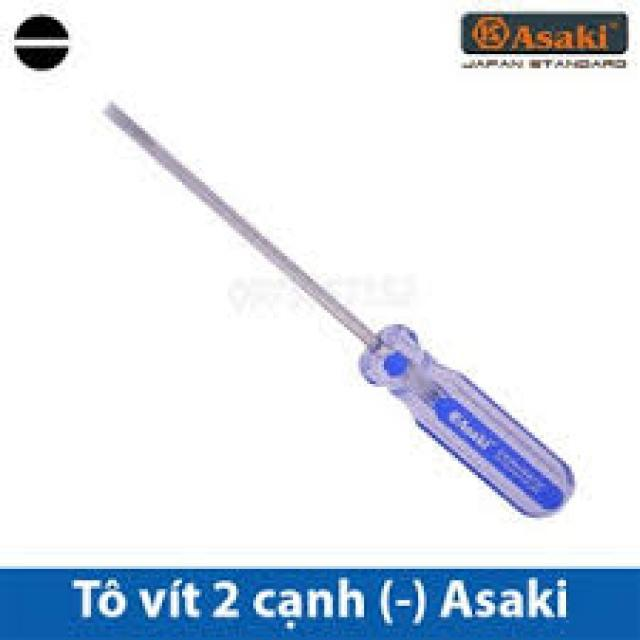screwdriver: (94, 92, 583, 520)
